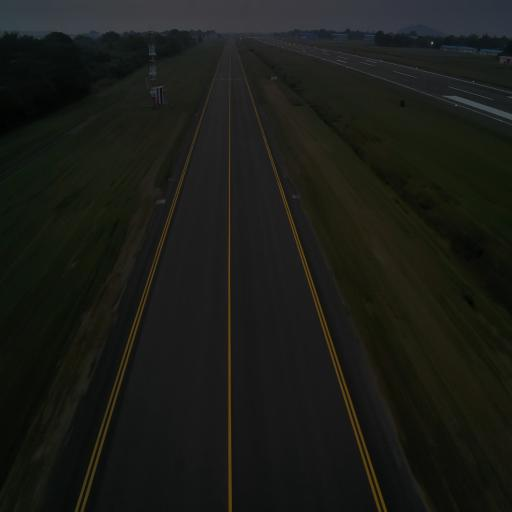on: (161, 196, 165, 202)
